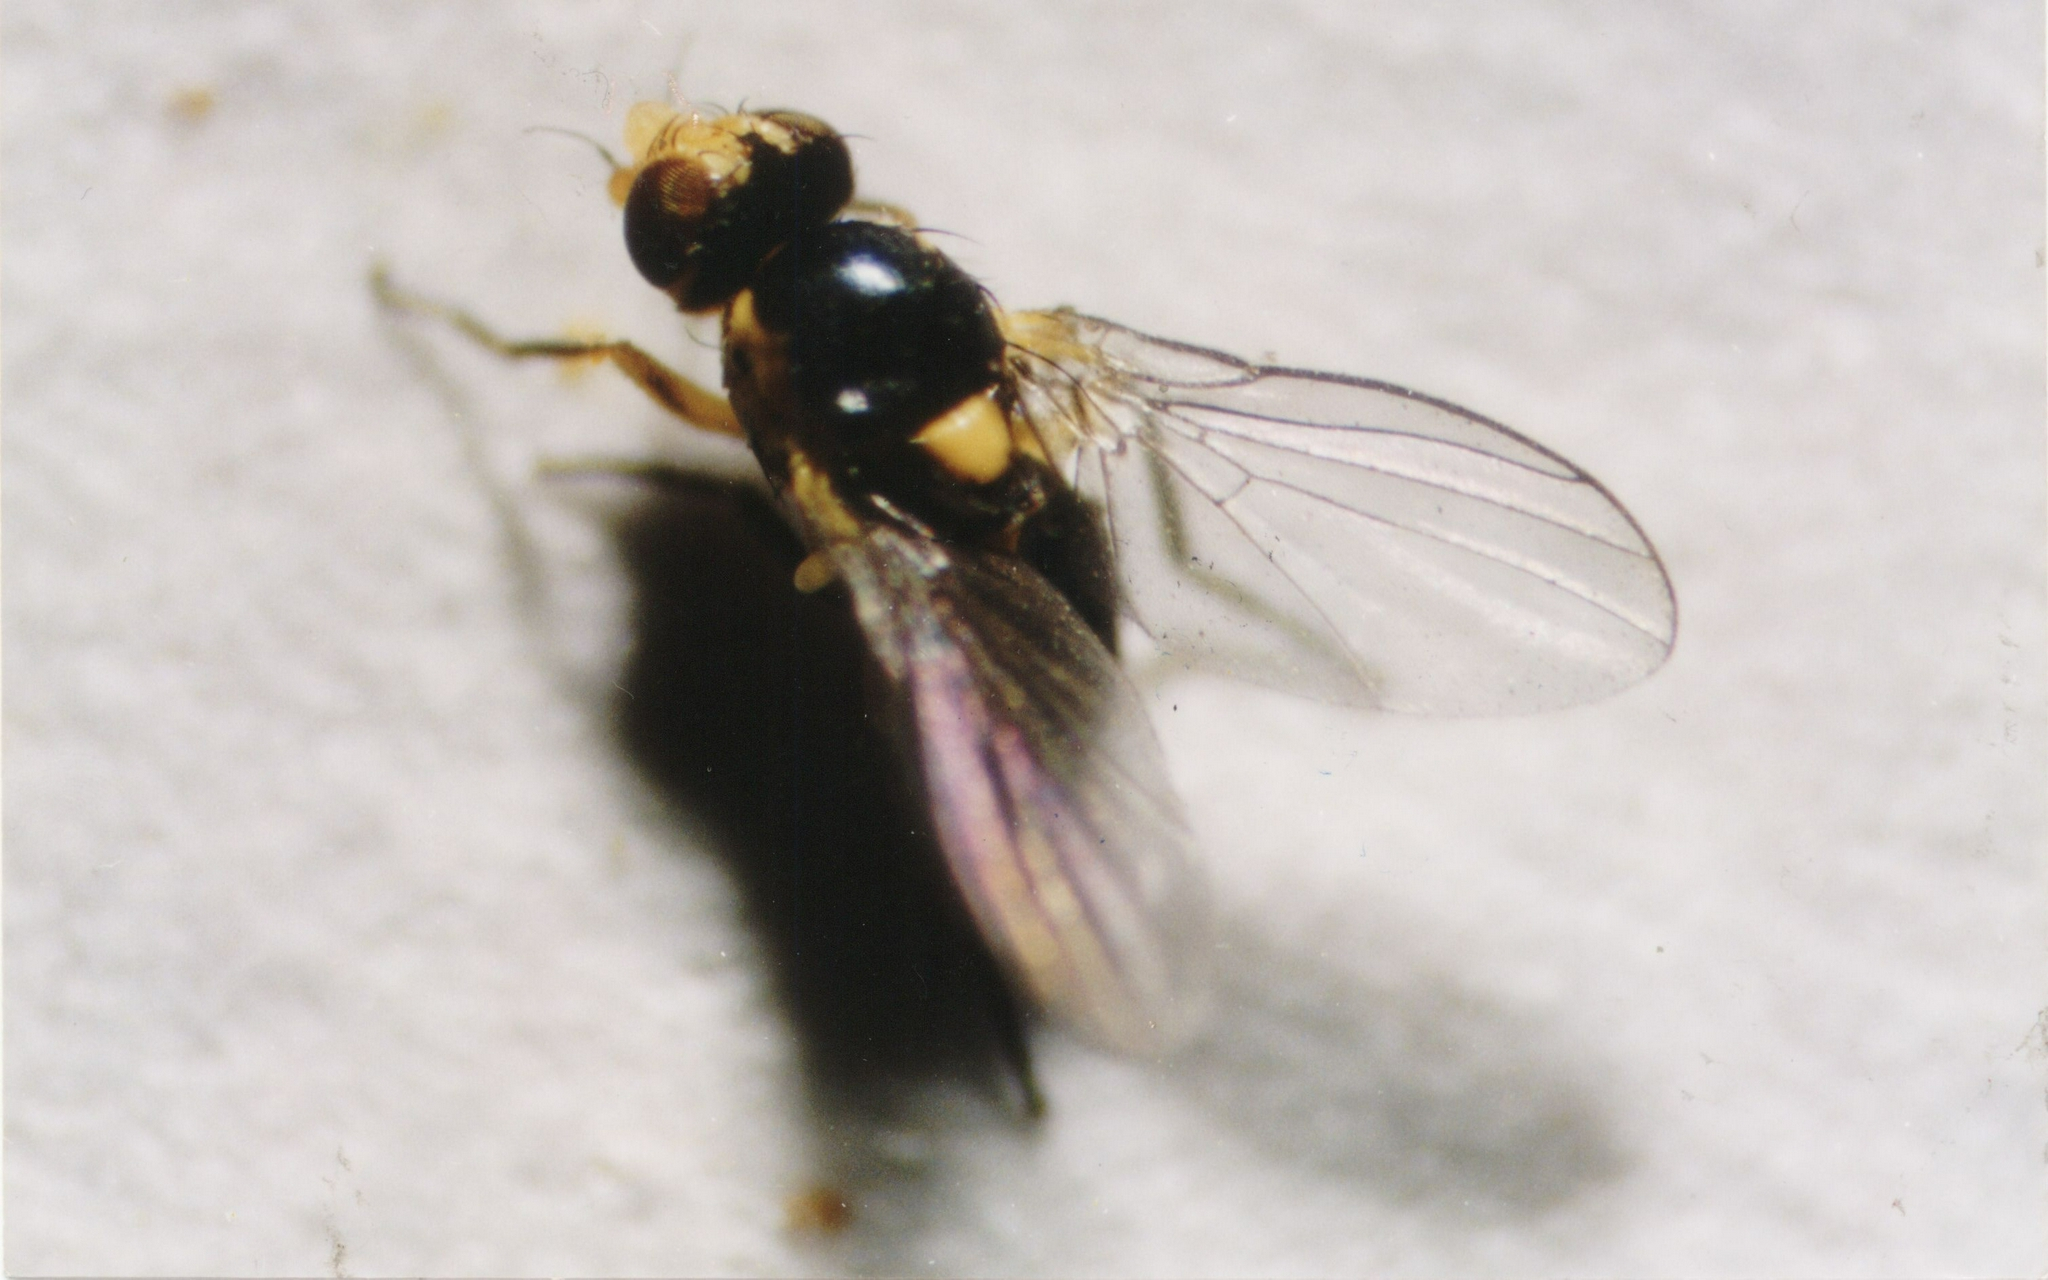liriomyza: (462, 69, 1679, 1122)
